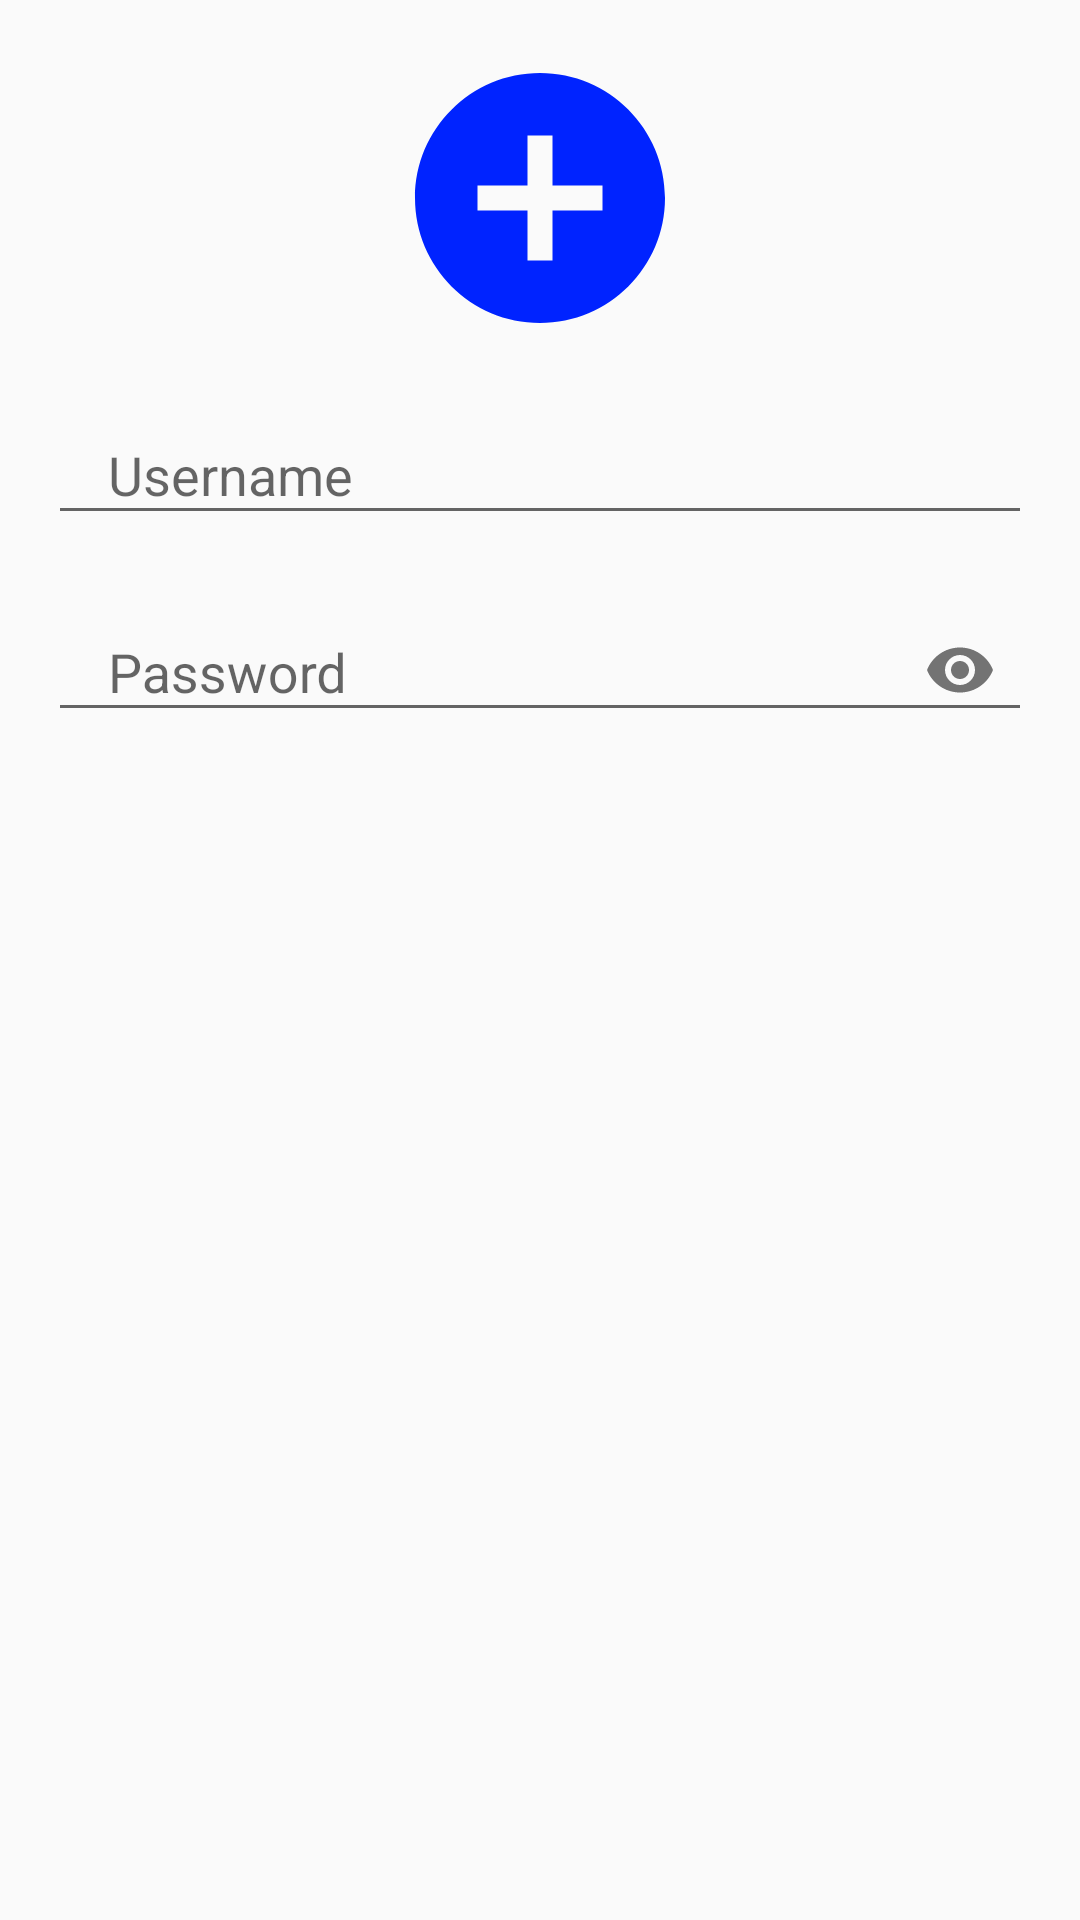

Where to tap for icons on this 1080x1920 app screen, as point (x, y):
add circle: point (540, 198)
